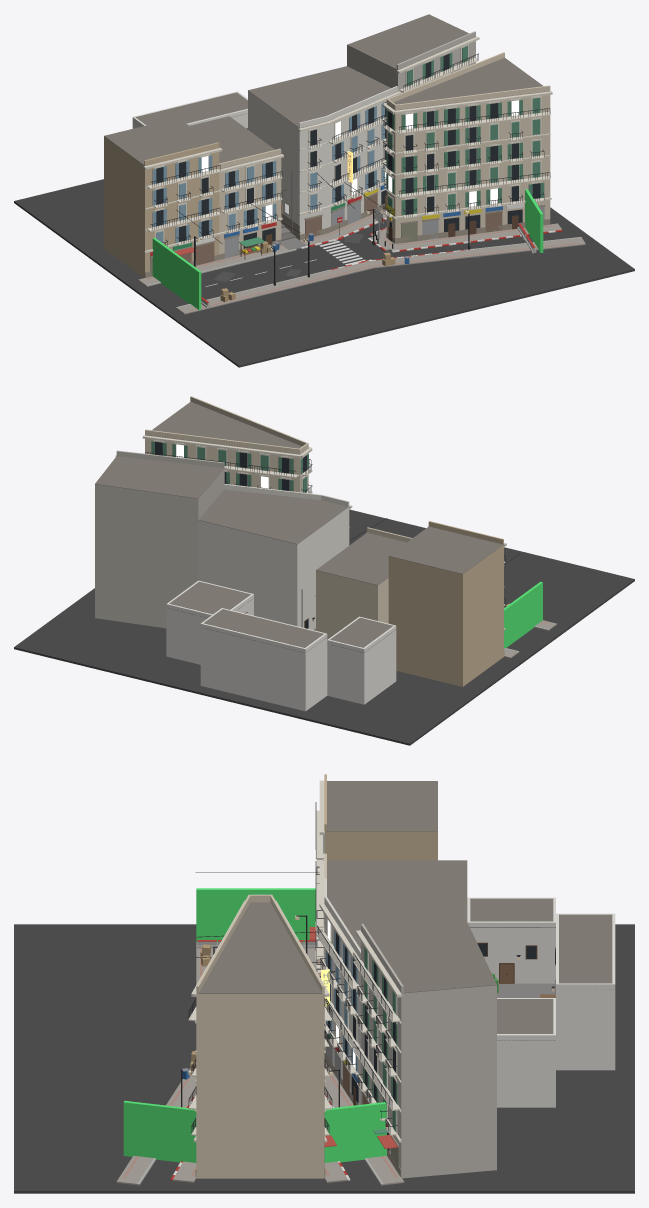
File: AlgiersStreet.fbx
3 renders of one model, top to bottom at view 1: azimuth 30°, elevation 25°; view 2: azimuth 150°, elevation 25°; view 3: azimuth 270°, elevation 25°, orthographic. The views are drawn at different scales.
Parts seen in each view (by area): view 1: Street_Buildings, Street_Ground, COL_Bounds, Street_Casbah_Details, Street_Props; view 2: Street_Buildings, Street_Ground, Street_Casbah_Details, COL_Bounds; view 3: Street_Buildings, Street_Ground, COL_Bounds, Street_Casbah_Details, Street_Props.
Boxes of the visible parts, left/top/right/bottom form: Street_Buildings: left=104, top=14, right=552, bottom=277; Street_Ground: left=14, top=179, right=634, bottom=367; COL_Bounds: left=152, top=189, right=543, bottom=310; Street_Casbah_Details: left=132, top=91, right=299, bottom=239; Street_Props: left=176, top=151, right=536, bottom=307; Street_Buildings: left=95, top=396, right=506, bottom=711; Street_Ground: left=14, top=509, right=634, bottom=745; Street_Casbah_Details: left=166, top=580, right=396, bottom=652; COL_Bounds: left=504, top=581, right=542, bottom=648; Street_Buildings: left=188, top=774, right=615, bottom=1178; Street_Ground: left=14, top=924, right=634, bottom=1193; COL_Bounds: left=123, top=888, right=386, bottom=1162; Street_Casbah_Details: left=467, top=897, right=615, bottom=1040; Street_Props: left=181, top=872, right=339, bottom=1107.
Size of the model in its own units: 64 by 21.8 by 63.
5 materials, 1 textured.
